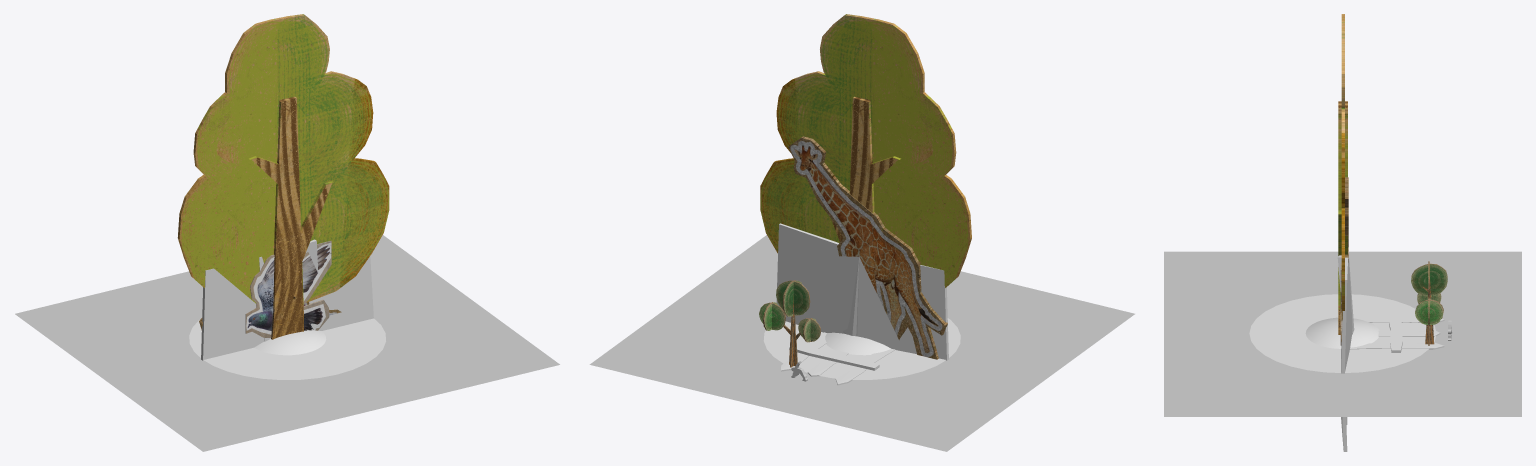
File: wALLS.fbx
The picture shows the model from 3 angles, left to right: view 1: azimuth 30°, elevation 25°; view 2: azimuth 150°, elevation 25°; view 3: azimuth 270°, elevation 25°; orthographic projection. The views are drawn at different scales.
Visible parts, largest first — view 1: AAAA, Tree_01, Mur_carre, gRASS, Pigeon_01, enclot; view 2: AAAA, Tree_01, uQ6rQhr, Mur_carre, gRASS, Tree_02.001, Barrière, enclot; view 3: AAAA, gRASS, Tree_01, Tree_02.001, Barrière, enclot, Mur_carre.
Boxes of the visible parts, x1,y1,x2,y2 form: AAAA: [15, 235, 559, 451]; Tree_01: [177, 14, 389, 339]; Mur_carre: [201, 256, 373, 360]; gRASS: [189, 318, 385, 379]; Pigeon_01: [245, 241, 331, 337]; enclot: [254, 330, 326, 355]; AAAA: [589, 235, 1134, 451]; Tree_01: [760, 14, 971, 287]; uQ6rQhr: [788, 136, 947, 359]; Mur_carre: [776, 223, 948, 360]; gRASS: [763, 318, 960, 379]; Tree_02.001: [759, 280, 820, 367]; Barrière: [781, 332, 895, 385]; enclot: [825, 332, 890, 355]; AAAA: [1164, 251, 1521, 416]; gRASS: [1249, 294, 1435, 372]; Tree_01: [1338, 14, 1347, 334]; Tree_02.001: [1411, 261, 1447, 345]; Barrière: [1350, 310, 1444, 352]; enclot: [1305, 317, 1379, 348]; Mur_carre: [1341, 255, 1352, 451].
Size of what is drawn, in the model's own units: 418 by 461 by 382.
